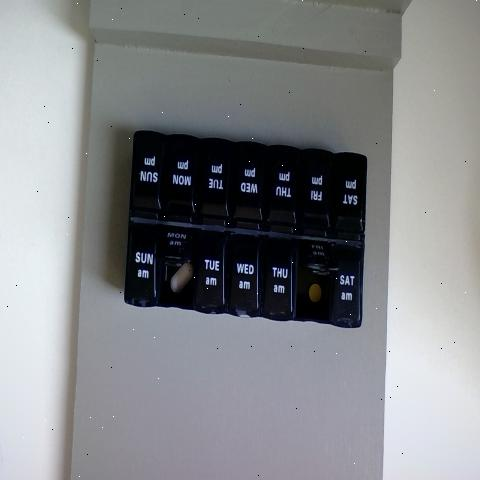FRI-pm: (300, 155, 331, 236)
MON-pm: (167, 142, 199, 219)
Open: (296, 239, 339, 319), (164, 255, 196, 309)
Pill: (168, 258, 192, 297), (304, 276, 326, 310)
PillBox: (103, 85, 384, 362)
SAT-am: (328, 239, 361, 324)
SAT-pm: (333, 156, 365, 239)
SUN-am: (125, 222, 158, 306)
SUN-pm: (132, 135, 164, 212)
THU-am: (263, 237, 296, 323)
THU-pm: (268, 149, 298, 230)
TUE-am: (194, 238, 226, 317)
TUE-pm: (198, 145, 229, 224)
WED-am: (228, 234, 260, 317)
WED-pm: (234, 148, 262, 223)
